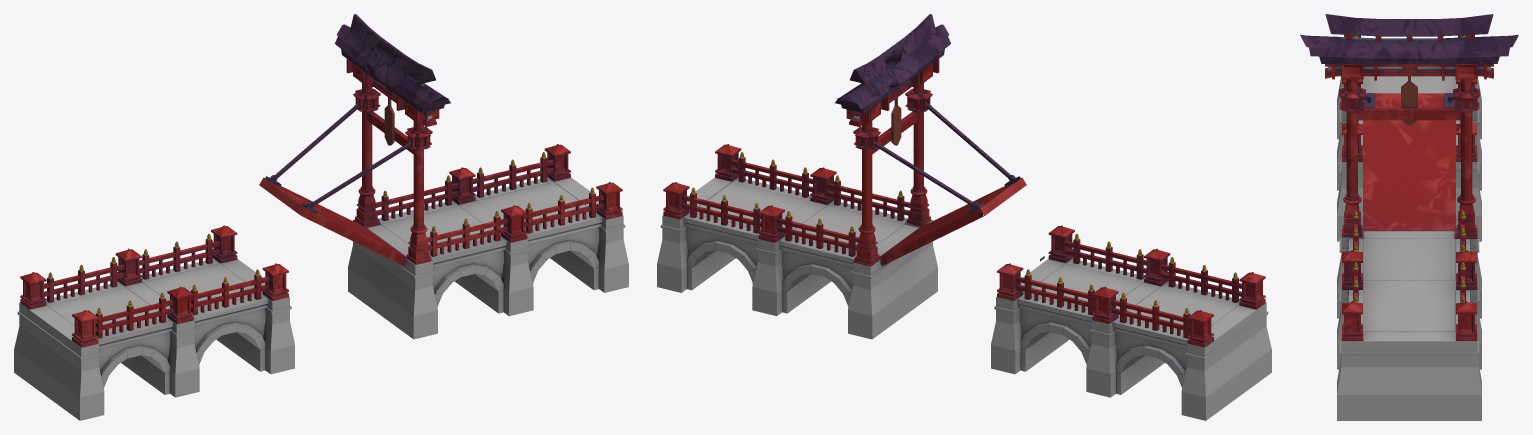
The model's file is bridg with texture.glb.
The picture shows the model from 3 angles, left to right: view 1: azimuth 30°, elevation 25°; view 2: azimuth 150°, elevation 25°; view 3: azimuth 270°, elevation 25°; orthographic projection. The views are drawn at different scales.
Visible parts, largest first — view 1: cuboid.153; view 2: cuboid.153; view 3: cuboid.153.
Part boxes in pixels (x1,y1,x2,y2): cuboid.153: [14, 14, 628, 420]; cuboid.153: [657, 14, 1271, 420]; cuboid.153: [1300, 14, 1518, 420].
Bounding box in the file's own units: 3.09 × 1.46 × 0.9684.
Materials: 1 (1 with a texture image).
